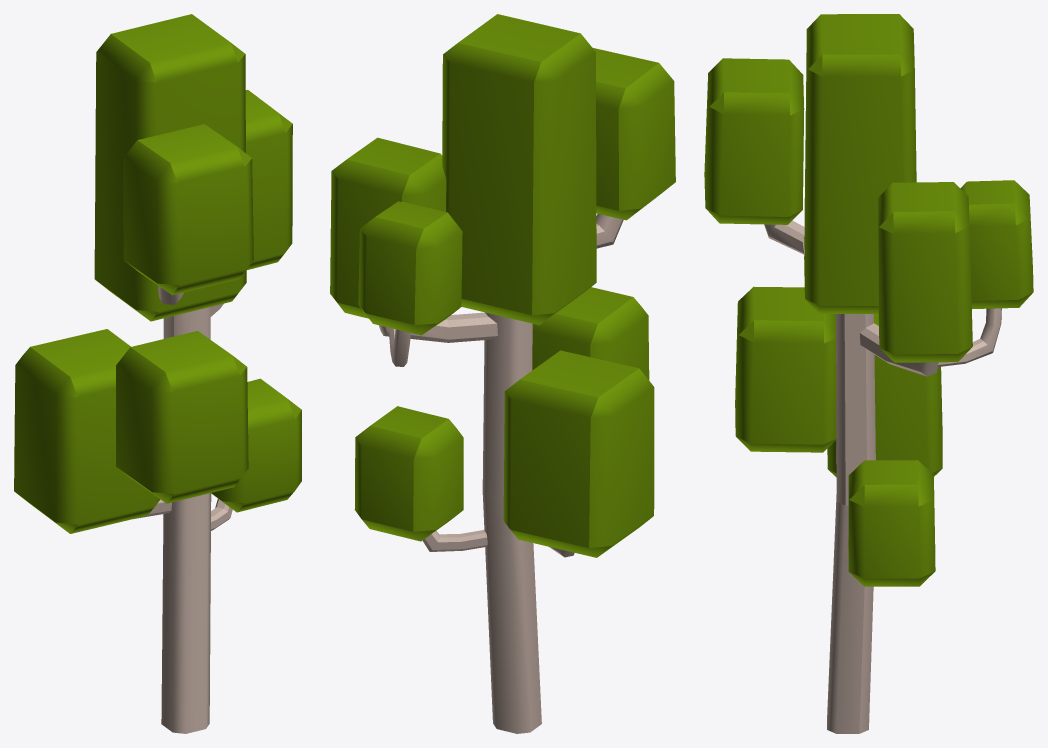
The model's file is SM_Pararie_Brirch_01_Wind_anim.fbx.
3 views of the same model, side by side, from view 1: azimuth 30°, elevation 25°; view 2: azimuth 150°, elevation 25°; view 3: azimuth 270°, elevation 25° (orthographic).
Visible parts, largest first — view 1: SM_Pararie_Brirch_01; view 2: SM_Pararie_Brirch_01; view 3: SM_Pararie_Brirch_01.
Part boxes in pixels (x1,y1,x2,y2): SM_Pararie_Brirch_01: (14,14,301,733); SM_Pararie_Brirch_01: (330,14,675,733); SM_Pararie_Brirch_01: (704,14,1033,733).
Size of the model in its own units: 115 by 287 by 125.
